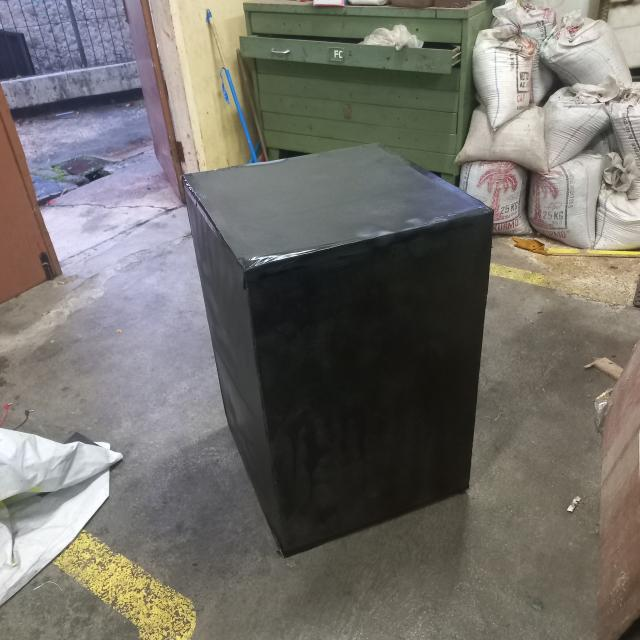obstacle: (184, 138, 497, 562)
